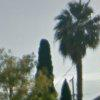Palm tree: (53, 5, 99, 84)
